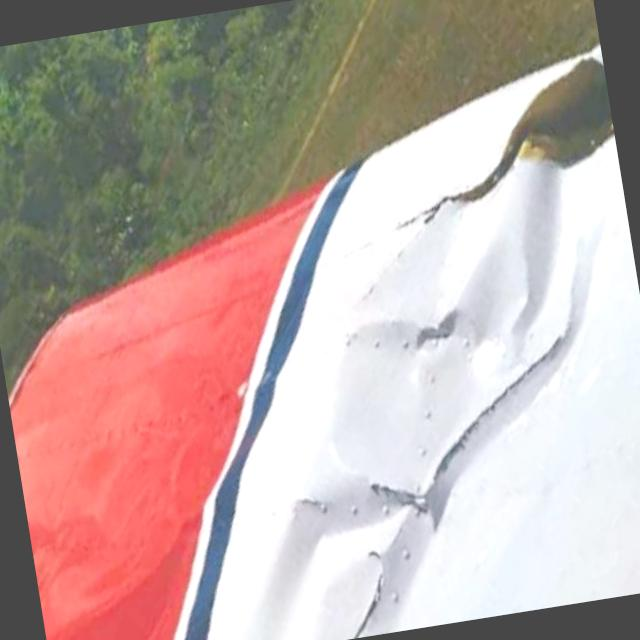crack: (414, 340, 582, 496), (317, 526, 403, 640), (372, 452, 430, 506)
